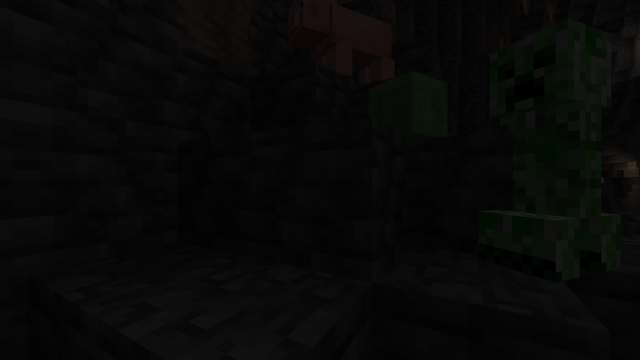cochons: (308, 1, 389, 85)
creepers: (493, 4, 625, 285)
slimes: (371, 67, 439, 142)
